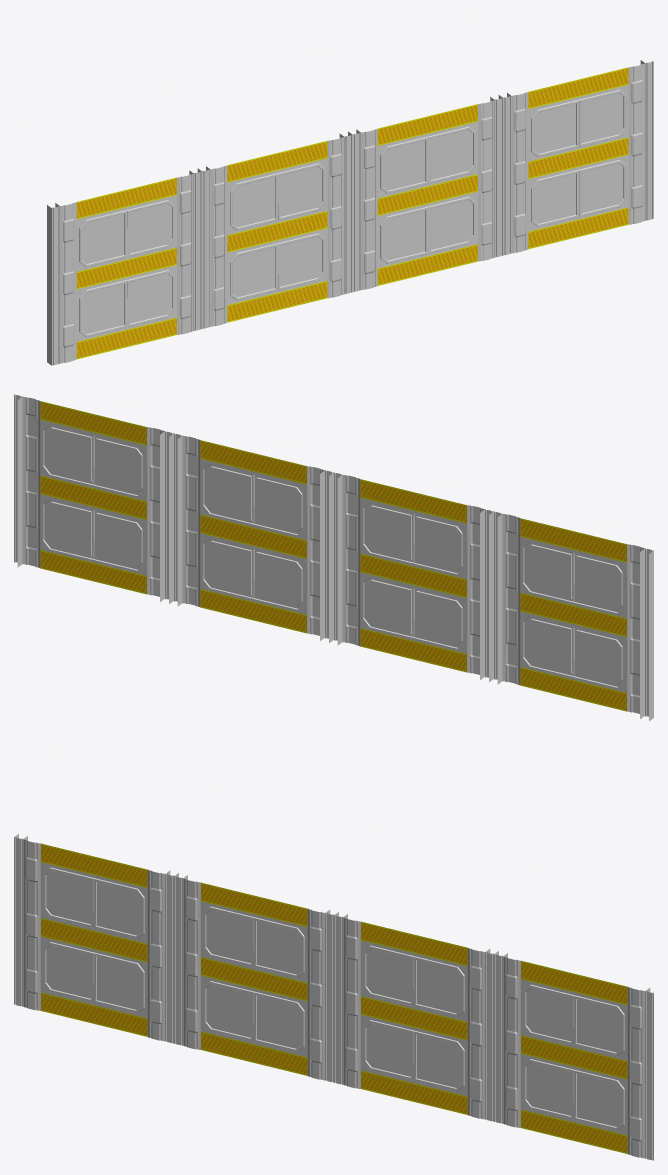
The model's file is RB_Windows.fbx.
The picture shows the model from 3 angles, top to bottom: view 1: azimuth 30°, elevation 25°; view 2: azimuth 150°, elevation 25°; view 3: azimuth 330°, elevation 25°; orthographic projection. The views are drawn at different scales.
Parts seen in each view (by area): view 1: Cube.568; view 2: Cube.568; view 3: Cube.568.
Part boxes in pixels (box(x1,y1,x2,y2)): Cube.568: box(47, 60, 653, 365); Cube.568: box(14, 394, 653, 721); Cube.568: box(14, 834, 653, 1160).
Bounding box in the file's own units: 3600 × 1210 × 399.
